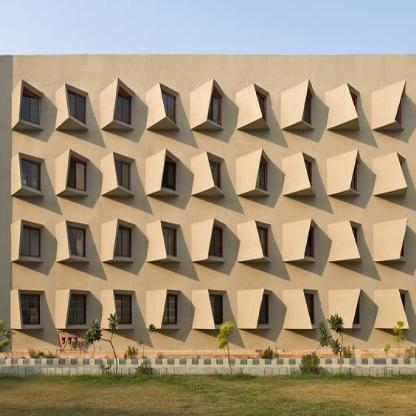Building Outline: (0, 53, 416, 377)
Facade: (0, 53, 416, 377)
Window: (67, 159, 85, 191), (67, 93, 85, 124), (21, 159, 38, 191), (21, 93, 38, 124), (114, 91, 129, 124), (21, 228, 38, 257), (68, 229, 85, 257), (161, 91, 175, 124), (21, 296, 38, 323), (68, 296, 85, 323), (114, 158, 129, 188), (114, 228, 129, 257), (161, 159, 175, 190), (114, 296, 129, 323), (207, 229, 221, 257), (161, 296, 175, 323), (161, 229, 175, 255), (206, 162, 219, 190), (206, 95, 219, 123), (299, 297, 312, 325), (387, 91, 398, 123), (344, 91, 355, 123), (209, 296, 222, 323), (253, 296, 266, 323), (299, 91, 309, 123), (254, 229, 266, 255), (299, 229, 311, 255), (254, 162, 265, 190), (300, 162, 311, 190), (344, 162, 355, 190), (254, 94, 264, 122), (392, 162, 402, 190), (392, 229, 402, 255), (394, 297, 403, 325), (348, 297, 357, 325), (347, 229, 356, 255)
